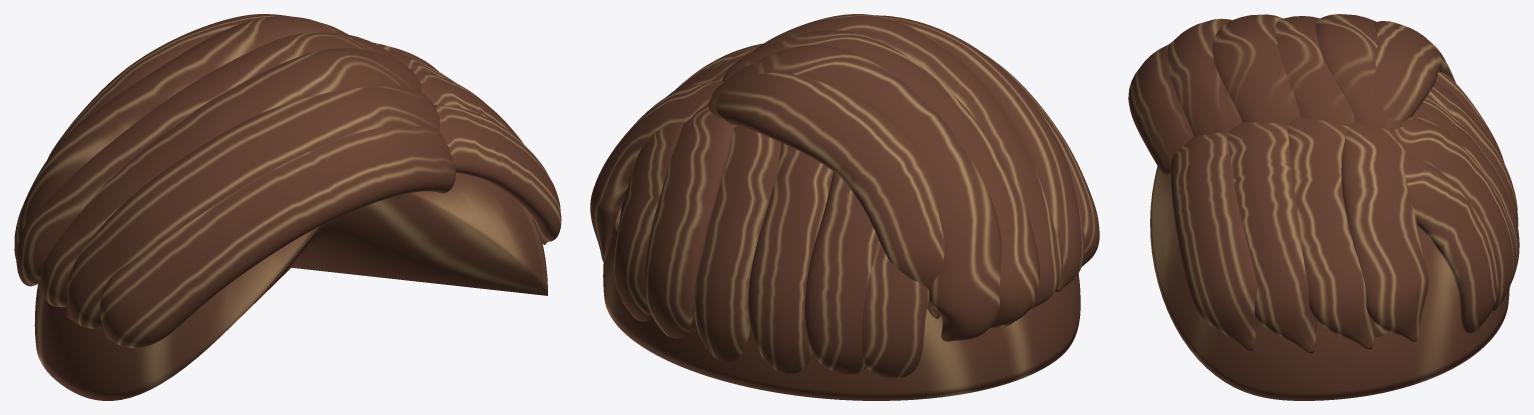
The model's file is Highlights-05e11d5b8a1c252-hair.glb.
The picture shows the model from 3 angles, left to right: view 1: azimuth 30°, elevation 25°; view 2: azimuth 150°, elevation 25°; view 3: azimuth 270°, elevation 25°; orthographic projection. The views are drawn at different scales.
Parts seen in each view (by area): view 1: Recessed roots, Hair / Side part main 0, Hair / Side part main 1, Hair / Side part main 2, Hair / Side part main 3, Hair / Side part main 4, Hair / Side part short 0, Hair / Side part crown, Hair / Side part short 1, Hair / Side part short 2; view 2: Hair / Side part crown, Recessed roots, Hair / Side part main 4, Hair / Side part nape 2, Hair / Side part nape 3, Hair / Side part main 3, Hair / Side part nape 4, Hair / Side part main 2, Hair / Side part nape 1, Hair / Side part main 1, Hair / Side part nape 0, Hair / Side part nape 5 (+4 smaller); view 3: Recessed roots, Hair / Side part short 3, Hair / Side part short 0, Hair / Side part short 1, Hair / Side part short 2, Hair / Side part nape 5, Hair / Side part main 2, Hair / Side part nape 4, Hair / Side part main 1, Hair / Side part crown, Hair / Side part main 4, Hair / Side part main 3 (+4 smaller).
Part boxes in pixels (box(x1,y1,x2,y2)): Recessed roots: box(34, 172, 547, 400); Hair / Side part main 0: box(100, 126, 455, 348); Hair / Side part main 1: box(66, 86, 440, 328); Hair / Side part main 2: box(40, 48, 420, 307); Hair / Side part main 3: box(16, 32, 392, 286); Hair / Side part main 4: box(14, 16, 347, 259); Hair / Side part short 0: box(434, 105, 561, 244); Hair / Side part crown: box(47, 14, 288, 159); Hair / Side part short 1: box(411, 69, 523, 143); Hair / Side part short 2: box(385, 49, 455, 82); Hair / Side part crown: box(716, 72, 944, 319); Recessed roots: box(603, 197, 1080, 400); Hair / Side part main 4: box(708, 45, 1001, 341); Hair / Side part nape 2: box(748, 142, 833, 374); Hair / Side part nape 3: box(693, 126, 781, 362); Hair / Side part main 3: box(722, 30, 1039, 328); Hair / Side part nape 4: box(645, 104, 733, 338); Hair / Side part main 2: box(752, 14, 1062, 310); Hair / Side part nape 1: box(805, 172, 879, 374); Hair / Side part main 1: box(875, 15, 1084, 292); Hair / Side part nape 0: box(862, 242, 929, 378); Hair / Side part nape 5: box(614, 123, 682, 321); Recessed roots: box(1150, 166, 1509, 400); Hair / Side part short 3: box(1341, 122, 1428, 342); Hair / Side part short 0: box(1171, 132, 1258, 351); Hair / Side part short 1: box(1227, 122, 1317, 353); Hair / Side part short 2: box(1287, 116, 1374, 349); Hair / Side part nape 5: box(1405, 155, 1498, 333); Hair / Side part main 2: box(1212, 14, 1299, 125); Hair / Side part nape 4: box(1389, 117, 1514, 310); Hair / Side part main 1: box(1167, 18, 1242, 136); Hair / Side part crown: box(1372, 21, 1455, 121); Hair / Side part main 4: box(1315, 14, 1413, 130); Hair / Side part main 3: box(1275, 16, 1355, 126).
Size of the model in its own units: 0.9754 by 0.572 by 0.761.
21 materials, 21 textured.
